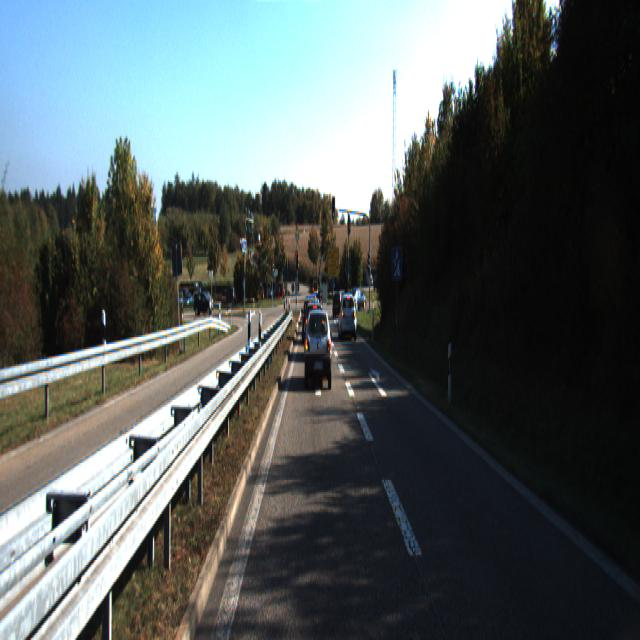Car: (304, 306, 332, 390), (304, 298, 324, 356), (338, 291, 356, 339), (332, 288, 344, 318)
